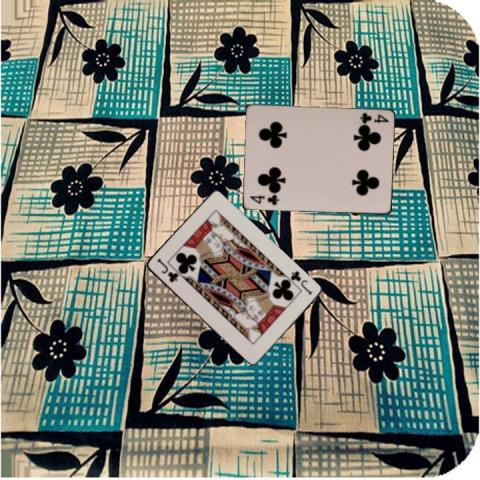4c: (357, 110, 390, 125), (247, 192, 280, 206)
Jc: (287, 268, 314, 297), (154, 255, 180, 284)
